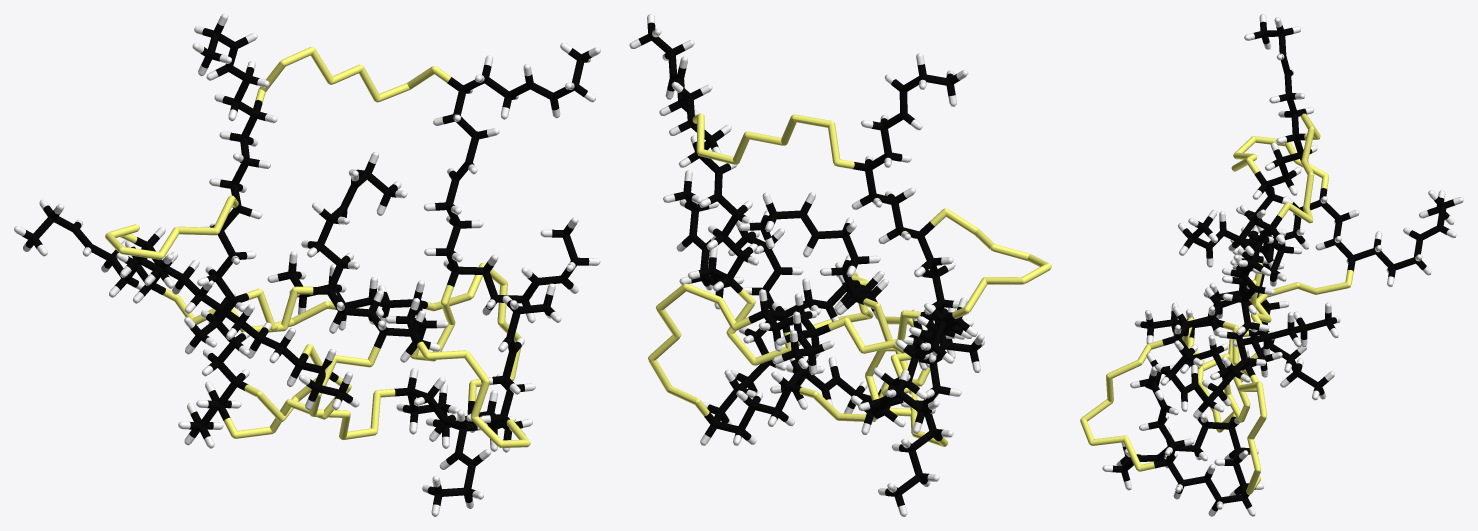
File: Elastomer_Stick_black.glb
3 renders of one model, left to right at view 1: azimuth 30°, elevation 25°; view 2: azimuth 150°, elevation 25°; view 3: azimuth 270°, elevation 25°, orthographic. The views are drawn at different scales.
Size of the model in its own units: 2.75 by 2.75 by 2.36.
